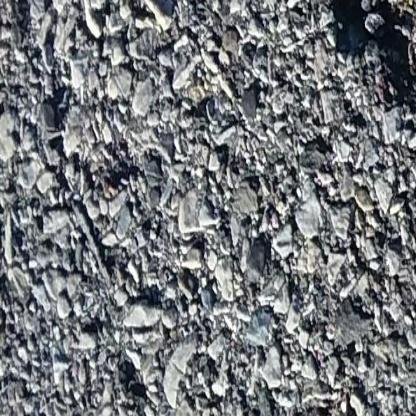Cracks: (319, 0, 416, 153)
